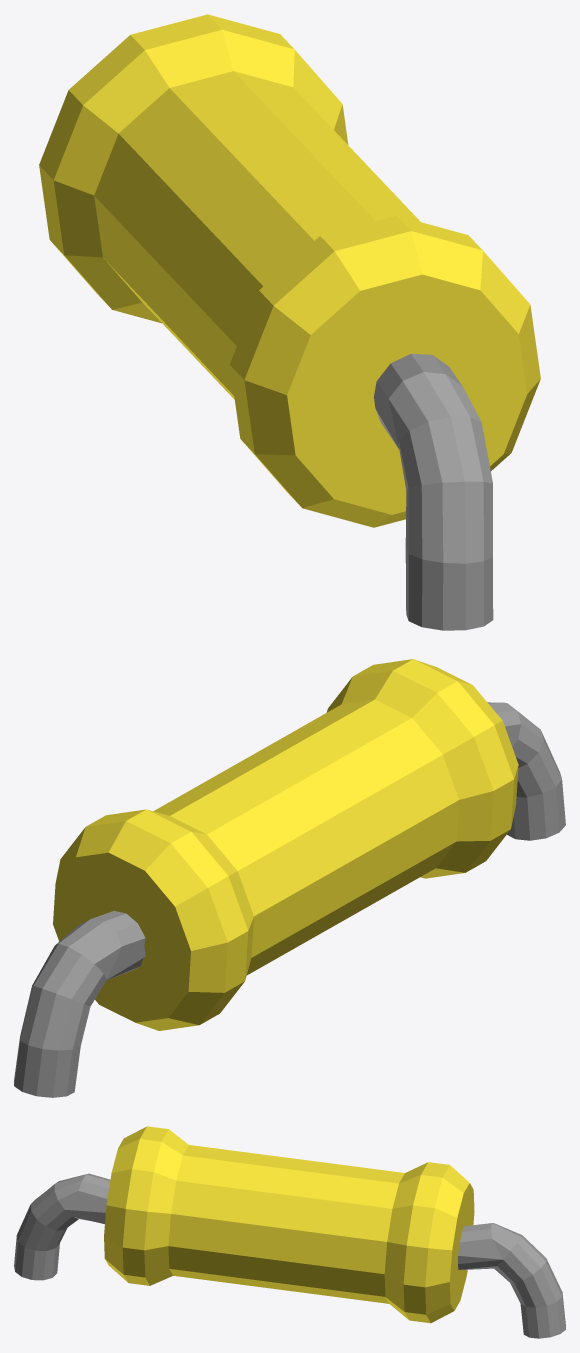
Rendered from yellow.glb.
3 views of the same model, one above another, from view 1: azimuth 30°, elevation 25°; view 2: azimuth 150°, elevation 25°; view 3: azimuth 270°, elevation 25° (orthographic). The views are drawn at different scales.
Parts seen in each view (by area): view 1: group121958341, group1491479151; view 2: group121958341, group67579346, group1491479151; view 3: group121958341, group67579346, group1491479151.
Boxes of the visible parts, box(x1,y1,x2,y2) form: group121958341: box(39, 14, 540, 527); group1491479151: box(374, 353, 493, 630); group121958341: box(53, 659, 518, 1030); group67579346: box(14, 910, 145, 1097); group1491479151: box(487, 702, 565, 840); group121958341: box(104, 1126, 474, 1323); group67579346: box(458, 1223, 565, 1338); group1491479151: box(14, 1173, 110, 1280).
Bounding box in the file's own units: 0.096 × 0.0835 × 0.2505.
